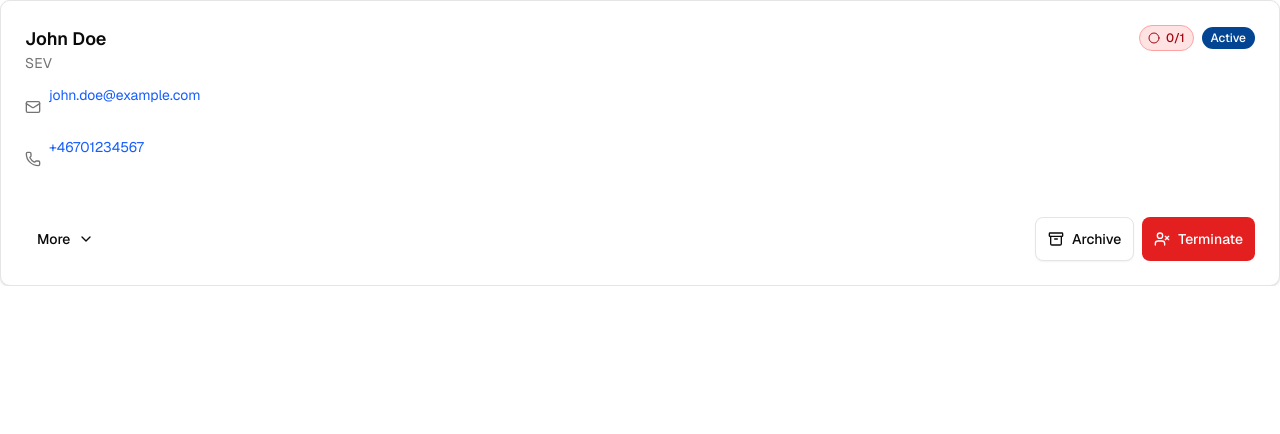
EmployeeCard - Inline Editing Integration › AC3: Inline Editing Functionality Tests › does not show a failed checklist update as completed
The width and height of the screenshot is (1280, 434).
Click the button with aria-label "Expand details" at [66, 239], box [25,217,106,261]
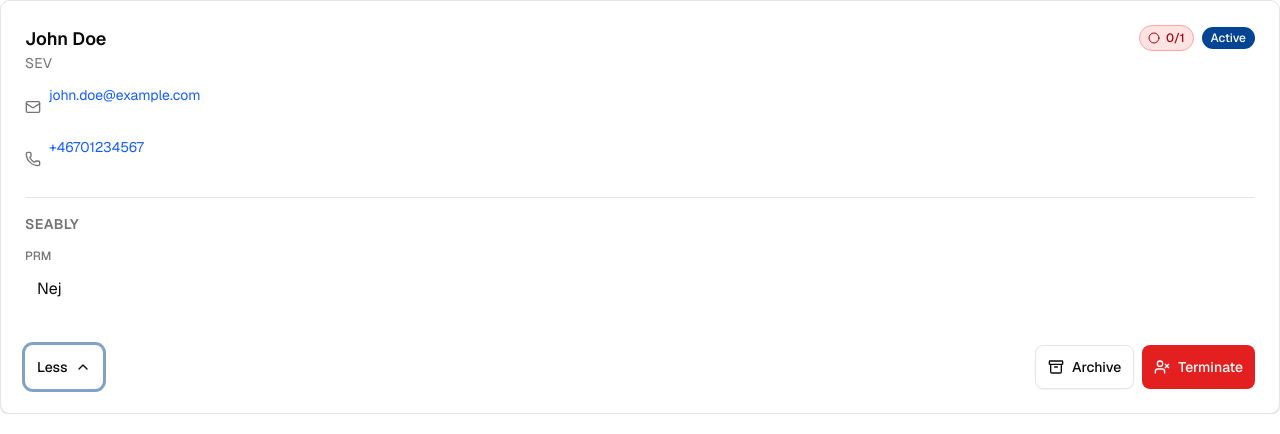
Expected: the text "PRM" is shown, [25,248,52,264]
Expected: the cell "Nej" is shown
Click the cell "Nej" at [640, 288], box [25,268,1255,309]
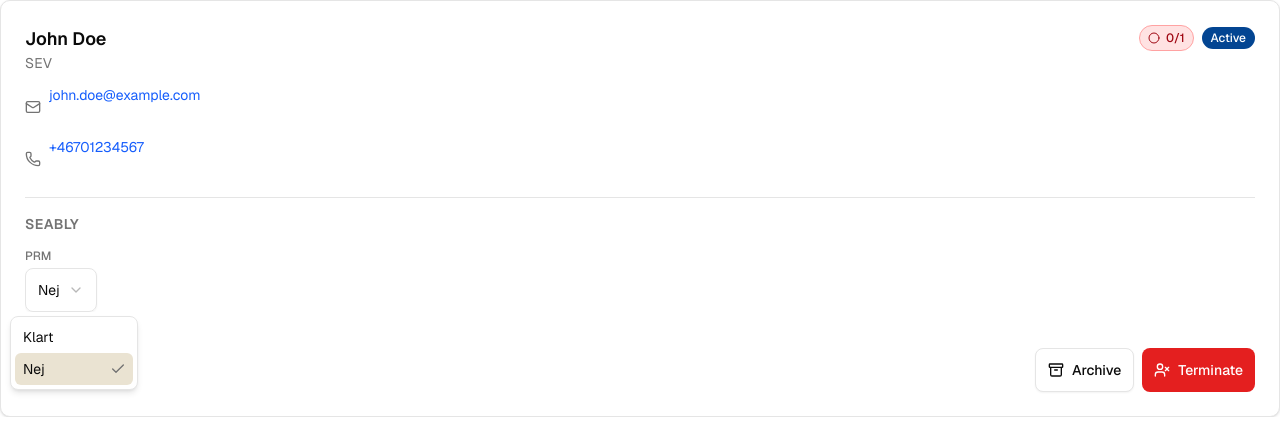
Click the option "Klart" at [38, 337], box [23,328,54,346]
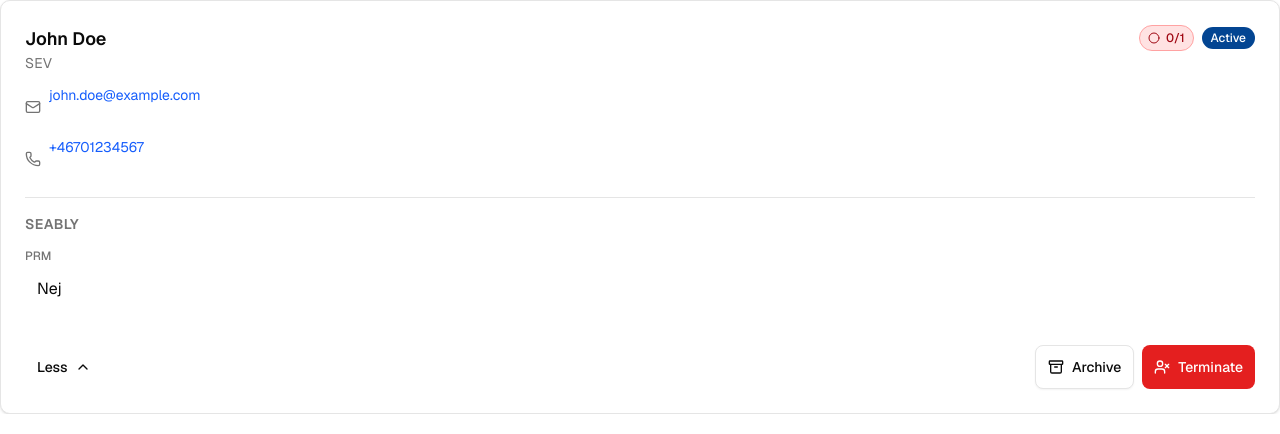
Expected: the cell "Nej" is shown, [25,268,1255,309]
Expected: the cell "Nej" no longer shows "Klart", [25,268,1255,309]
